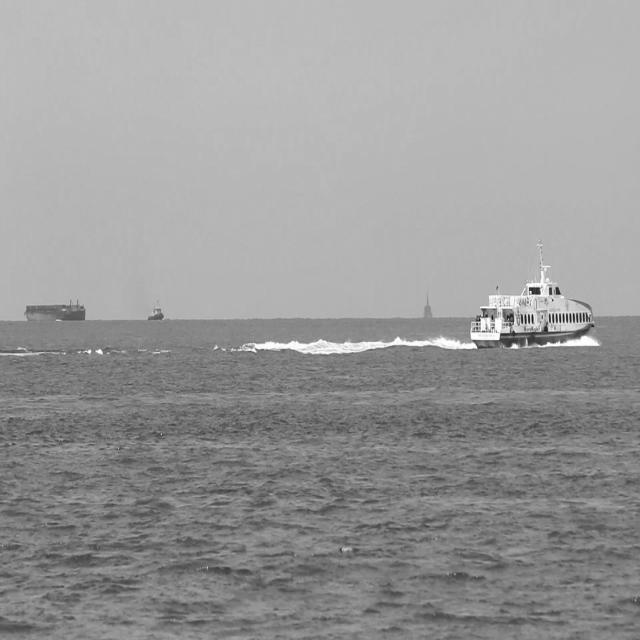ship: (467, 236, 605, 355), (21, 294, 87, 324), (144, 294, 166, 322)
